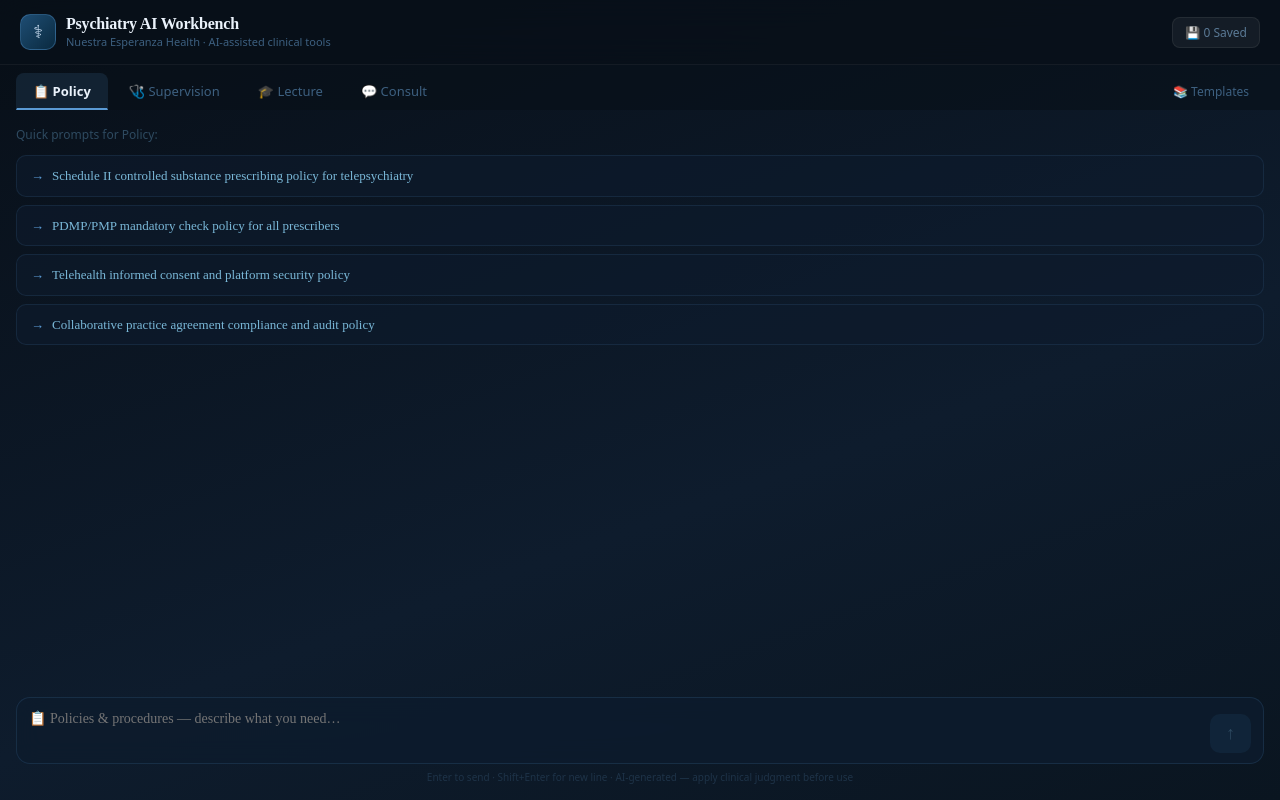
PsychiatryWorkbench › renders backend errors in chat
Type "trigger error" into the text box with placeholder "📋 Policies & procedures — describe what you need…".
click(616, 731); type("trigger error")  # box [29,708,1202,753]
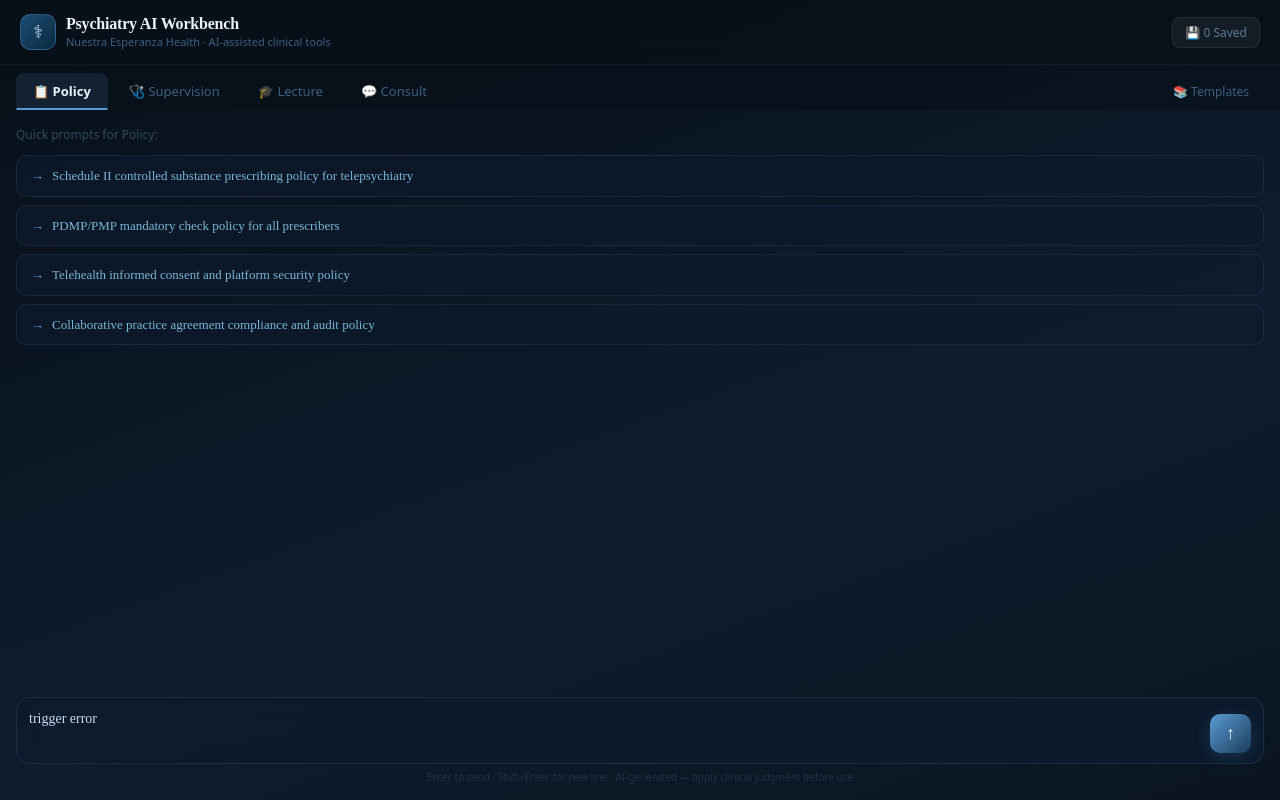
Click the button "↑".
click(1230, 734)  # box [1210,714,1251,753]
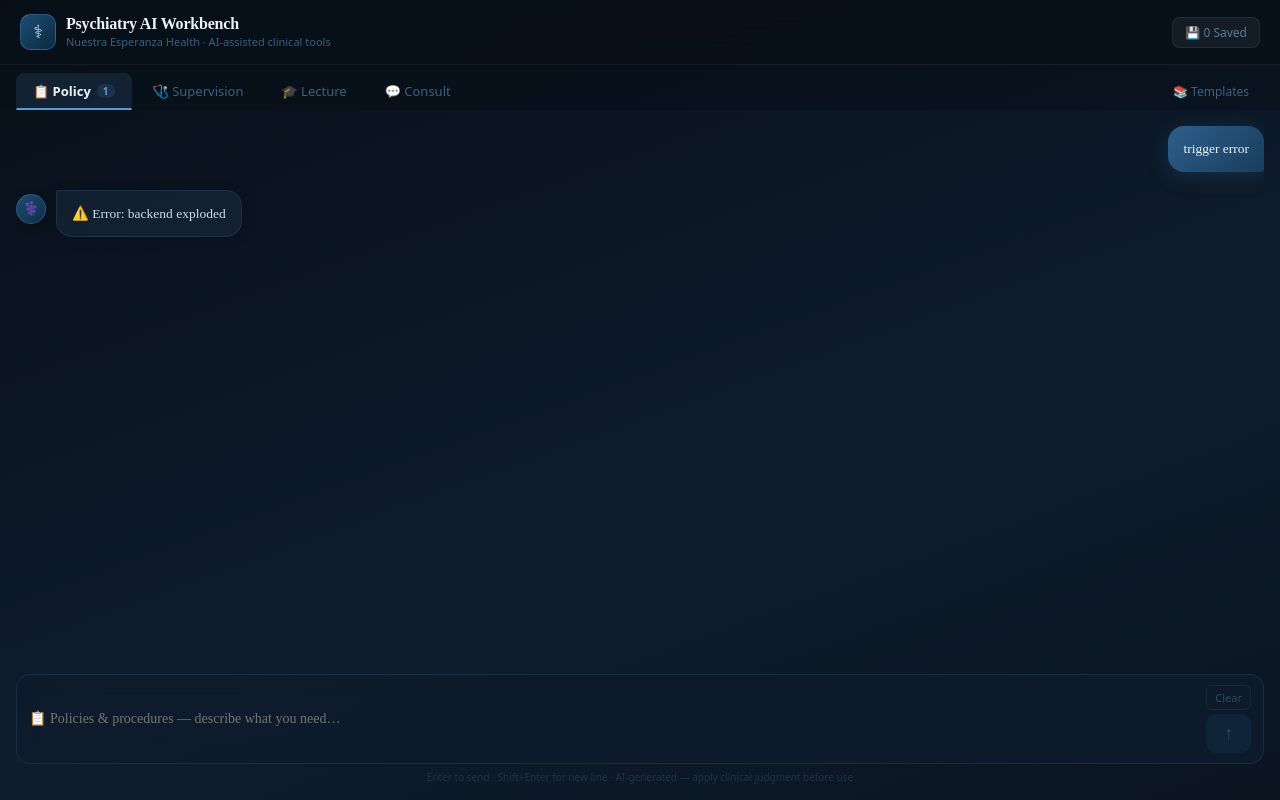
Check: the text "⚠️ Error: backend exploded" is shown, box [56,190,242,237]
